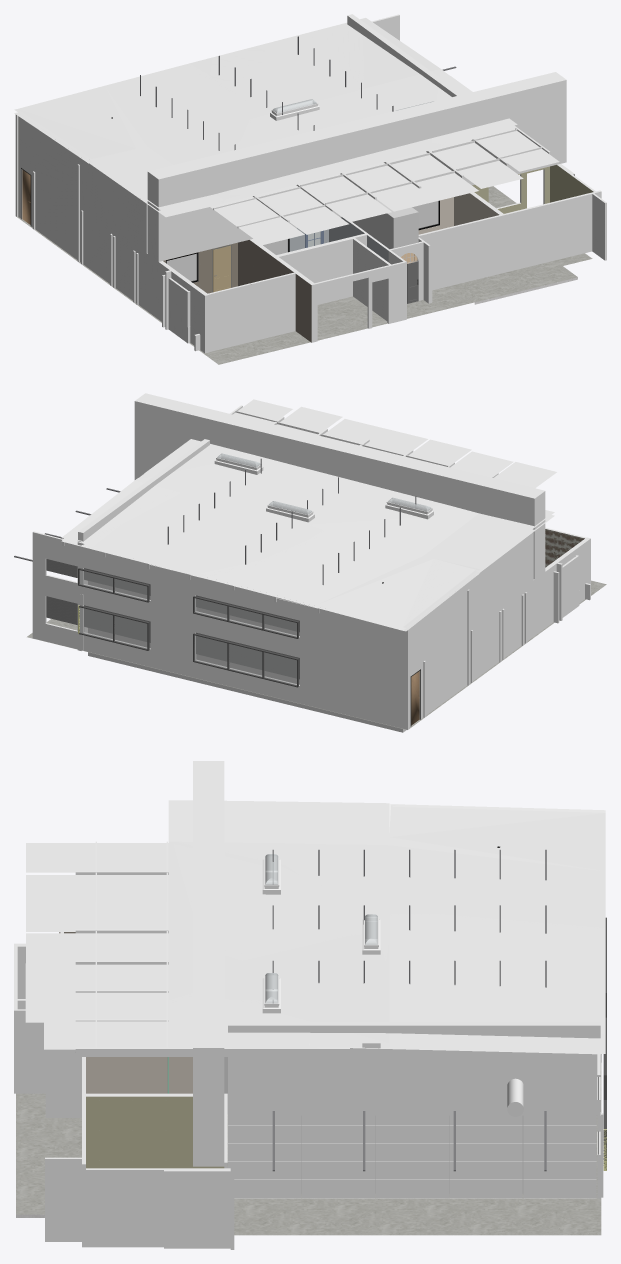
The model's file is small_hub_01.glb.
The picture shows the model from 3 angles, top to bottom: view 1: azimuth 30°, elevation 25°; view 2: azimuth 150°, elevation 25°; view 3: azimuth 270°, elevation 25°; orthographic projection. The views are drawn at different scales.
Parts seen in each view (by area): view 1: Mesh7434 Group1241 Group1240 Group1239 Model, rooms_wall, Mesh54_Group4_Model_FrontColor, windows_wall, main_floor, Mesh8748 Group1263 Group1249 Model, Mesh8741 Group1257 Group1249 Model, Mesh8747 Group1262 Group1249 Model, Mesh8742 Group1258 Group1249 Model, Mesh8745 Group1260 Group1249 Model, Mesh8743 Group1259 Group1249 Model, available_moving_area.001 (+9 smaller); view 2: Mesh7434 Group1241 Group1240 Group1239 Model, windows_wall, Mesh54_Group4_Model_FrontColor, rooms_wall, available_moving_area, Mesh4483_Group214_blind_1_1_blind2_1_1_Model_Shades, Mesh4606_Group259_blind_1_2_blind2_1_2_Model_Shades, Mesh3863_Group120_Model_FrontColor, Mesh4481_Group212_blind1_blind2_1_Model_Shades, Mesh6567_Group463_blind3_blind2_3_Model_Shades, Mesh8745 Group1260 Group1249 Model, main_floor (+20 smaller); view 3: Mesh7434 Group1241 Group1240 Group1239 Model, rooms_wall, Mesh3863_Group120_Model_FrontColor, main_floor, Mesh54_Group4_Model_FrontColor, great_wall.009, great_wall.003, great_wall.007, Mesh8742 Group1258 Group1249 Model, Mesh8745 Group1260 Group1249 Model, Mesh8747 Group1262 Group1249 Model, Mesh8748 Group1263 Group1249 Model (+15 smaller).
Part boxes in pixels (x1,y1,x2,y2): Mesh7434 Group1241 Group1240 Group1239 Model: [14, 18, 517, 217]; rooms_wall: [146, 164, 606, 353]; Mesh54_Group4_Model_FrontColor: [147, 72, 566, 261]; windows_wall: [15, 14, 399, 309]; main_floor: [17, 186, 592, 364]; Mesh8748 Group1263 Group1249 Model: [210, 196, 304, 245]; Mesh8741 Group1257 Group1249 Model: [256, 185, 348, 234]; Mesh8747 Group1262 Group1249 Model: [298, 174, 391, 222]; Mesh8742 Group1258 Group1249 Model: [344, 162, 436, 211]; Mesh8745 Group1260 Group1249 Model: [430, 140, 523, 188]; Mesh8743 Group1259 Group1249 Model: [387, 151, 478, 200]; available_moving_area.001: [352, 199, 418, 263]; Mesh7434 Group1241 Group1240 Group1239 Model: [61, 439, 554, 631]; windows_wall: [32, 530, 533, 729]; Mesh54_Group4_Model_FrontColor: [134, 393, 545, 579]; rooms_wall: [533, 527, 590, 636]; available_moving_area: [88, 581, 406, 732]; Mesh4483_Group214_blind_1_1_blind2_1_1_Model_Shades: [196, 632, 299, 679]; Mesh4606_Group259_blind_1_2_blind2_1_2_Model_Shades: [46, 596, 150, 642]; Mesh3863_Group120_Model_FrontColor: [78, 439, 209, 584]; Mesh4481_Group212_blind1_blind2_1_Model_Shades: [46, 559, 150, 595]; Mesh6567_Group463_blind3_blind2_3_Model_Shades: [196, 595, 299, 632]; Mesh8745 Group1260 Group1249 Model: [276, 406, 342, 434]; main_floor: [27, 580, 606, 729]; Mesh7434 Group1241 Group1240 Group1239 Model: [168, 800, 605, 1053]; rooms_wall: [14, 932, 234, 1249]; Mesh3863_Group120_Model_FrontColor: [228, 1022, 600, 1115]; main_floor: [16, 1063, 601, 1235]; Mesh54_Group4_Model_FrontColor: [193, 761, 224, 1166]; great_wall.009: [234, 1179, 596, 1198]; great_wall.003: [228, 1125, 596, 1143]; great_wall.007: [228, 1161, 596, 1179]; Mesh8742 Group1258 Group1249 Model: [26, 933, 168, 963]; Mesh8745 Group1260 Group1249 Model: [25, 992, 168, 1022]; Mesh8747 Group1262 Group1249 Model: [26, 902, 168, 931]; Mesh8748 Group1263 Group1249 Model: [26, 843, 168, 872].
Size of the model in its own units: 935 by 310 by 786.
66 materials, 14 textured.
